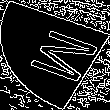M_SE: (12, 24, 98, 86)
